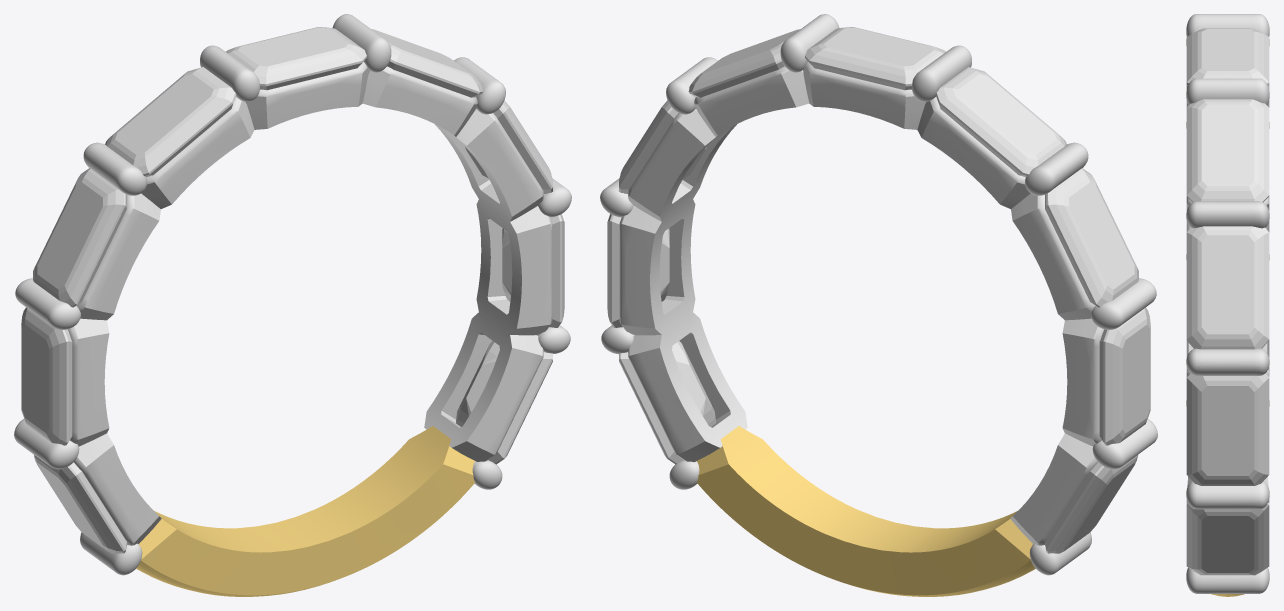
The model's file is Abby7stone_blender.glb.
The picture shows the model from 3 angles, left to right: view 1: azimuth 30°, elevation 25°; view 2: azimuth 150°, elevation 25°; view 3: azimuth 270°, elevation 25°; orthographic projection. The views are drawn at different scales.
Visible parts, largest first — view 1: v4 Abby PT for 3d model, v4 Abby YG for 3d model, v4 Abby dia for 3d model.001, v4 Abby dia for 3d model, v4 Abby dia for 3d model.002, v4 Abby dia for 3d model.008, v4 Abby dia for 3d model.003, v4 Abby dia for 3d model.007, v4 Abby dia for 3d model.004, v4 Abby dia for 3d model.005, v4 Abby dia for 3d model.006; view 2: v4 Abby PT for 3d model, v4 Abby YG for 3d model, v4 Abby dia for 3d model.001, v4 Abby dia for 3d model, v4 Abby dia for 3d model.002, v4 Abby dia for 3d model.008, v4 Abby dia for 3d model.003, v4 Abby dia for 3d model.007, v4 Abby dia for 3d model.004, v4 Abby dia for 3d model.005, v4 Abby dia for 3d model.006; view 3: v4 Abby PT for 3d model, v4 Abby dia for 3d model.006, v4 Abby dia for 3d model.005, v4 Abby dia for 3d model.007, v4 Abby dia for 3d model.004, v4 Abby dia for 3d model.008.
Boxes of the visible parts, x1,y1,x2,y2 form: v4 Abby PT for 3d model: (14,14,571,575); v4 Abby YG for 3d model: (136,426,474,596); v4 Abby dia for 3d model.001: (33,168,126,307); v4 Abby dia for 3d model: (105,67,236,176); v4 Abby dia for 3d model.002: (21,307,72,445); v4 Abby dia for 3d model.008: (226,27,366,90); v4 Abby dia for 3d model.003: (34,455,126,553); v4 Abby dia for 3d model.007: (371,29,483,97); v4 Abby dia for 3d model.004: (456,341,552,464); v4 Abby dia for 3d model.005: (502,214,564,327); v4 Abby dia for 3d model.006: (465,100,552,193); v4 Abby PT for 3d model: (600,14,1157,575); v4 Abby YG for 3d model: (697,426,1035,596); v4 Abby dia for 3d model.001: (1045,168,1138,307); v4 Abby dia for 3d model: (935,67,1066,176); v4 Abby dia for 3d model.002: (1099,307,1150,445); v4 Abby dia for 3d model.008: (805,27,945,90); v4 Abby dia for 3d model.003: (1045,455,1137,553); v4 Abby dia for 3d model.007: (688,29,800,97); v4 Abby dia for 3d model.004: (619,341,715,464); v4 Abby dia for 3d model.005: (607,214,669,327); v4 Abby dia for 3d model.006: (618,100,706,193); v4 Abby PT for 3d model: (1186,14,1269,593); v4 Abby dia for 3d model.006: (1186,226,1269,349); v4 Abby dia for 3d model.005: (1186,373,1269,485); v4 Abby dia for 3d model.007: (1186,99,1269,202); v4 Abby dia for 3d model.004: (1186,502,1269,575); v4 Abby dia for 3d model.008: (1186,28,1269,85).
Bounding box in the file's own units: 21.23 × 21.07 × 3.04.
